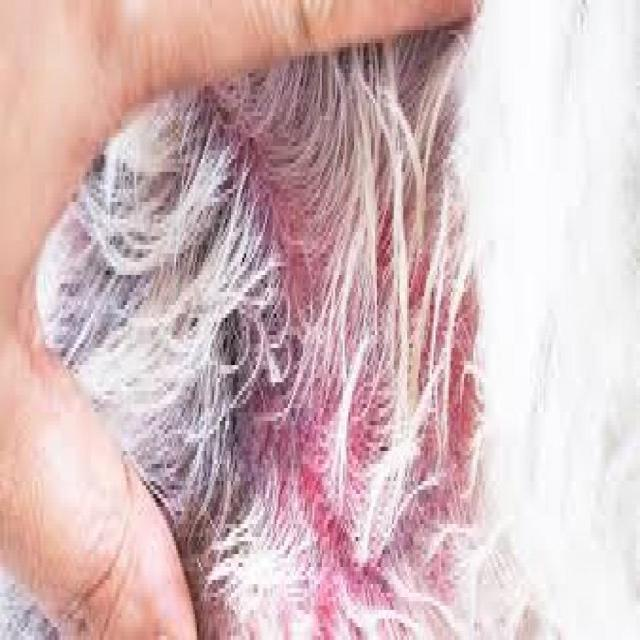allergic dermatitis: (189, 71, 479, 637)
